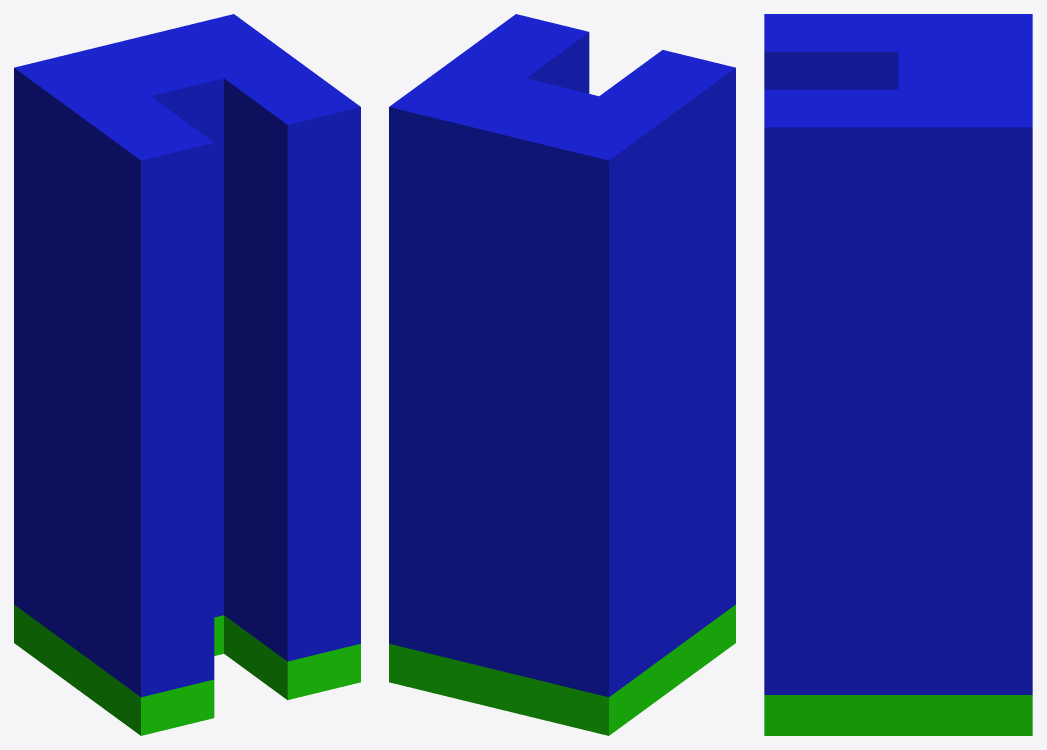
File: building15.fbx
3 views of the same model, side by side, from view 1: azimuth 30°, elevation 25°; view 2: azimuth 150°, elevation 25°; view 3: azimuth 270°, elevation 25° (orthographic). The views are drawn at different scales.
Parts seen in each view (by area): view 1: Cube.008; view 2: Cube.008; view 3: Cube.008.
Boxes of the visible parts, bbox=[...] form: Cube.008: bbox=[14, 14, 360, 735]; Cube.008: bbox=[389, 14, 735, 735]; Cube.008: bbox=[764, 14, 1032, 735].
Bounding box in the file's own units: 2000 × 5000 × 2000.
